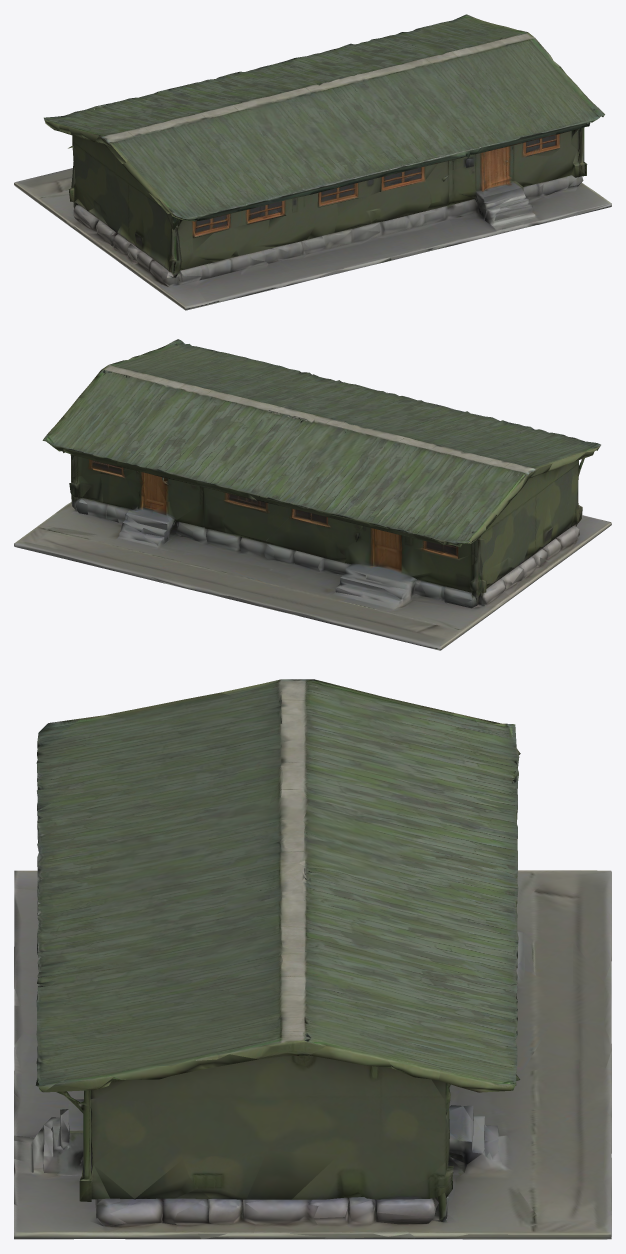
The model's file is barracks__army-barracks_e5.glb.
3 views of the same model, one above another, from view 1: azimuth 30°, elevation 25°; view 2: azimuth 150°, elevation 25°; view 3: azimuth 270°, elevation 25° (orthographic). The views are drawn at different scales.
Size of the model in its own units: 2 by 0.5113 by 1.39.
Materials: 1 (1 with a texture image).
